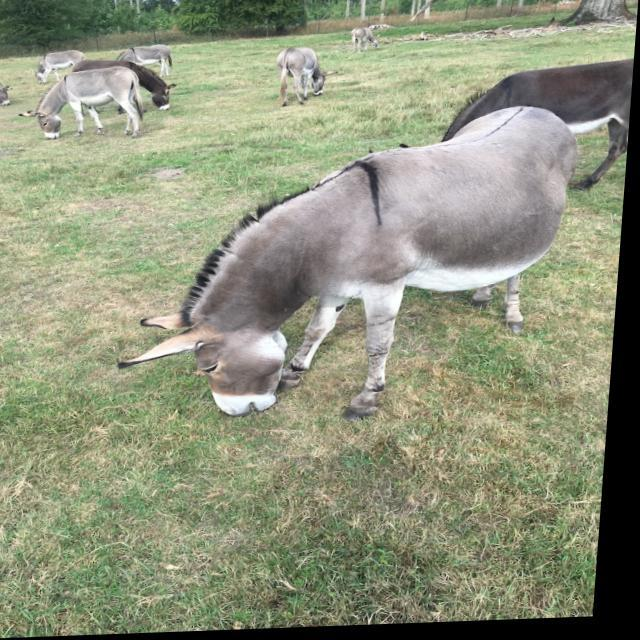Donkey: (118, 106, 586, 431), (396, 61, 634, 201), (17, 65, 149, 143), (68, 56, 180, 117), (272, 46, 341, 108), (112, 44, 174, 80), (25, 49, 87, 85), (348, 27, 380, 55), (0, 74, 15, 106)
